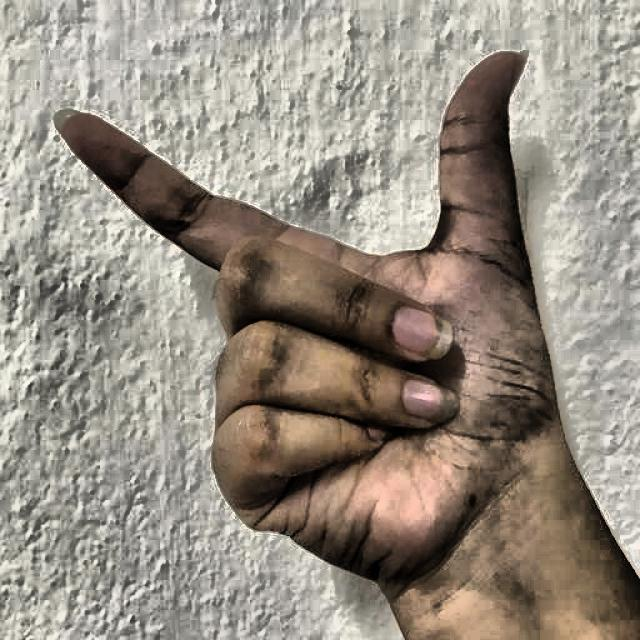ChandraBindu: (40, 18, 572, 619)
